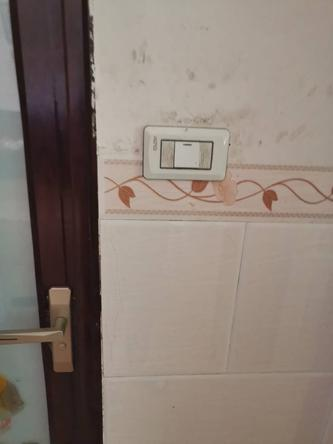switch: (172, 140, 202, 169)
